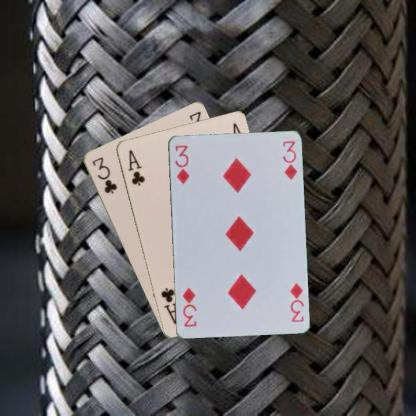3c: (89, 154, 118, 195)
3d: (172, 142, 191, 185), (287, 280, 305, 323)
Ac: (124, 147, 146, 187)
